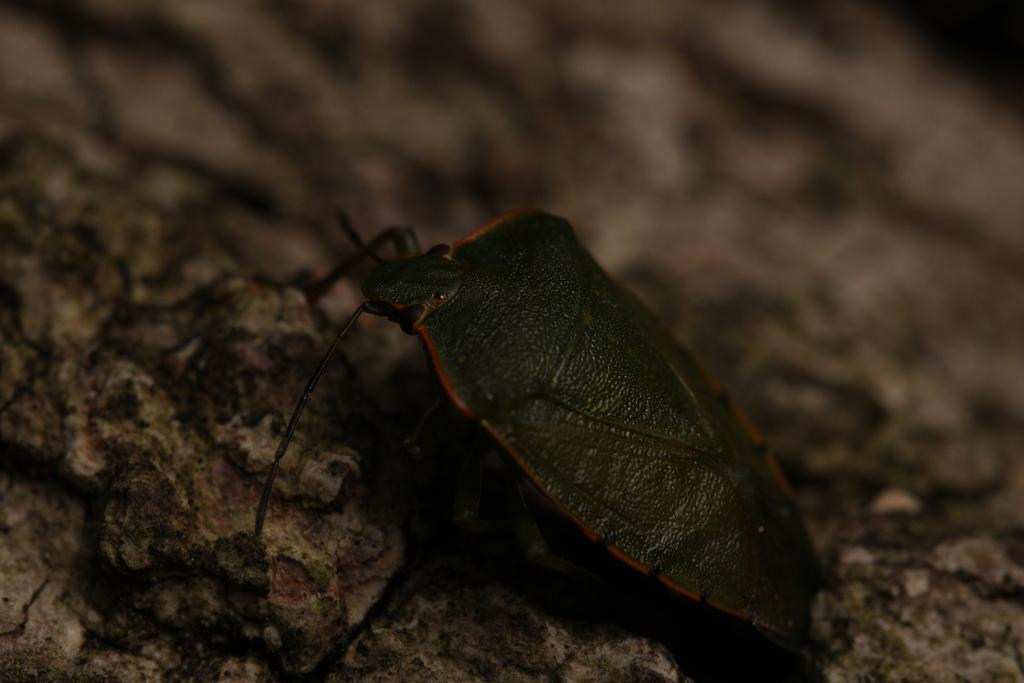stink_bugs: (232, 139, 891, 682)
